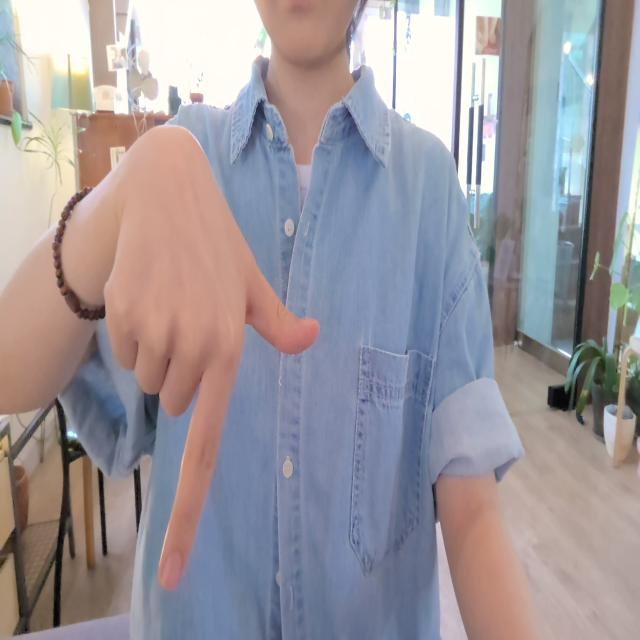giyeok: (92, 106, 336, 615)
